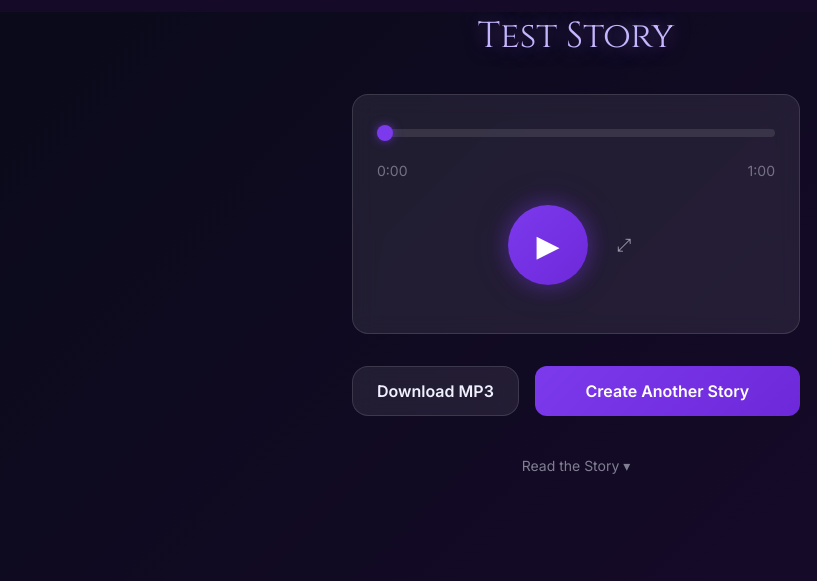
Test: StoryScreen - transcript panel › toggles transcript visibility on button click
This screenshot has width=817, height=581.
Expected: the text "Once upon a time in a magical forest..." is not shown
# Click to show
Step 1. Click the button "Read the Story ▾" → (576, 466), box left=352, top=448, right=800, bottom=484
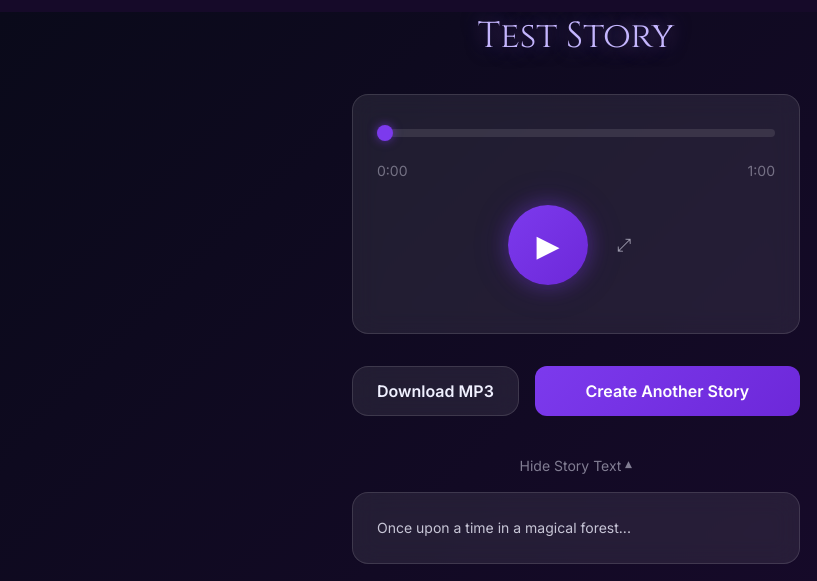
Result: the text "Once upon a time in a magical forest..." is shown at left=377, top=518, right=631, bottom=536
Result: the button "Hide Story Text ▾" is shown
# Click to hide
Step 2. Click the button "Hide Story Text ▾" → (576, 466), box left=352, top=448, right=800, bottom=484
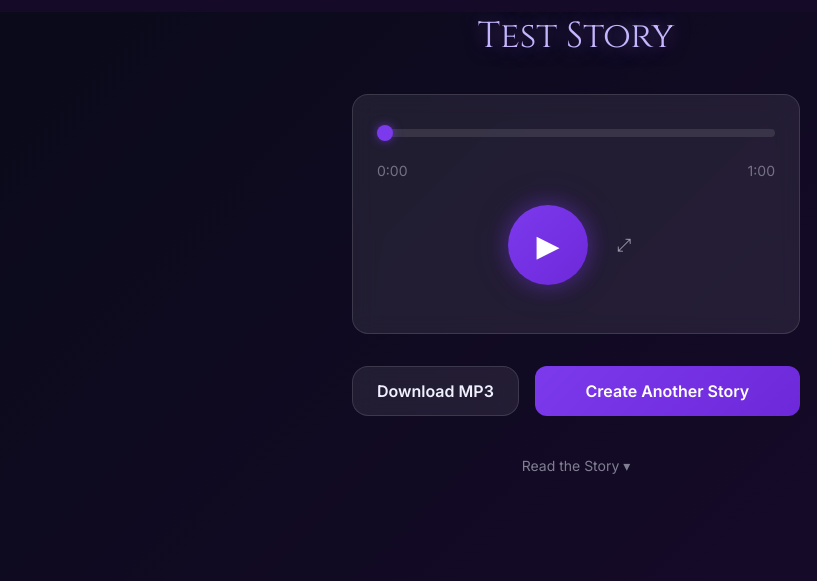
Result: the button "Read the Story ▾" is shown at left=352, top=448, right=800, bottom=484
